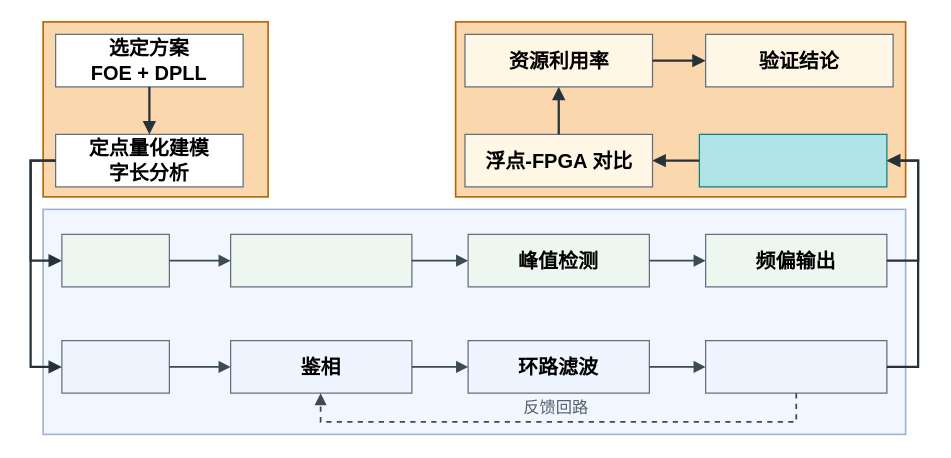
The diagram is 951 pixels wide and 458 high, and some of its shapes have lost their labels. Here are the shapes that lost their labels. From the top down, the centre of each, then its label:
point (792, 160): 级联验证
point (115, 260): FOE
point (320, 260): FFT
point (115, 366): DPLL
point (795, 366): NCO 反馈
